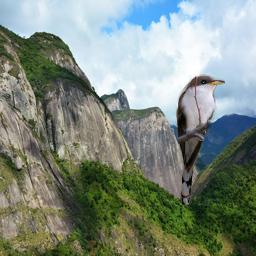Cuckoo: (175, 74, 225, 205)
